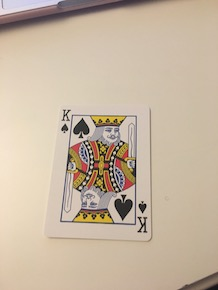KingOfSpades: (44, 103, 156, 244)
